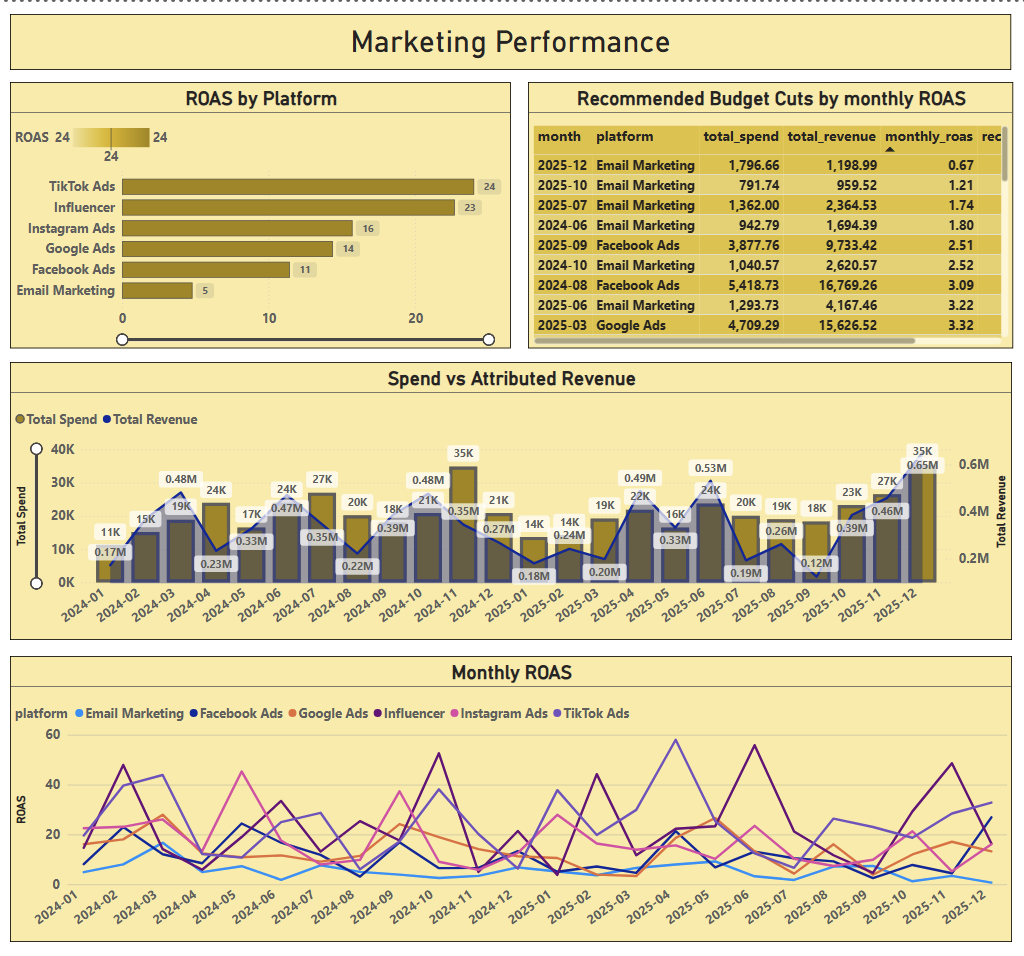

Layout of this report page (visuals, bound fields, positions):
{"tool":"powerbi","page":{"name":"Marketing Performance","canvas":[1280,1200],"ordinal":2},"visuals":[{"type":"textbox","box":[13.3,15,1251.7,70],"z":0},{"type":"clusteredBarChart","title":"ROAS by Platform","fields":{"Category":["ecommerce marketing_spend.platform"],"Y":["ecommerce marketing_spend.overall_roas"]},"box":[13.1,100,626.2,332.8],"z":1000},{"type":"lineChart","title":"Monthly ROAS","fields":{"Category":["ecommerce marketing_spend.month"],"Y":["ecommerce marketing_spend.overall_roas"],"Series":["ecommerce marketing_spend.platform"]},"box":[13.1,816.4,1252.5,357.4],"z":2000},{"type":"lineClusteredColumnComboChart","title":"Spend vs Attributed Revenue","fields":{"Category":["ecommerce marketing_spend.month"],"Y":["Sum(ecommerce marketing_spend.spend)"],"Y2":["Sum(ecommerce marketing_spend.revenue_attributed)"]},"box":[13.1,449.2,1252.5,347.5],"z":3000},{"type":"tableEx","title":"Recommended Budget Cuts by monthly ROAS","fields":{"Values":["marketing_budget_cut.month","marketing_budget_cut.platform","Sum(marketing_budget_cut.total_spend)","Sum(marketing_budget_cut.total_revenue)","Sum(marketing_budget_cut.monthly_roas)","Sum(marketing_budget_cut.recommended_cut)"]},"box":[659,100,606.6,332.8],"z":4000}]}

Visuals, with their boxes in screenshot pixels (x1, y1, x2, y2), scaled from the page's 1280x1200 canvas onto the 1024x956 screenshot:
textbox: <box>11,12,1012,68</box>
"ROAS by Platform" clusteredBarChart: <box>10,80,511,345</box>
"Monthly ROAS" lineChart: <box>10,650,1012,935</box>
"Spend vs Attributed Revenue" lineClusteredColumnComboChart: <box>10,358,1012,635</box>
"Recommended Budget Cuts by monthly ROAS" tableEx: <box>527,80,1012,345</box>
